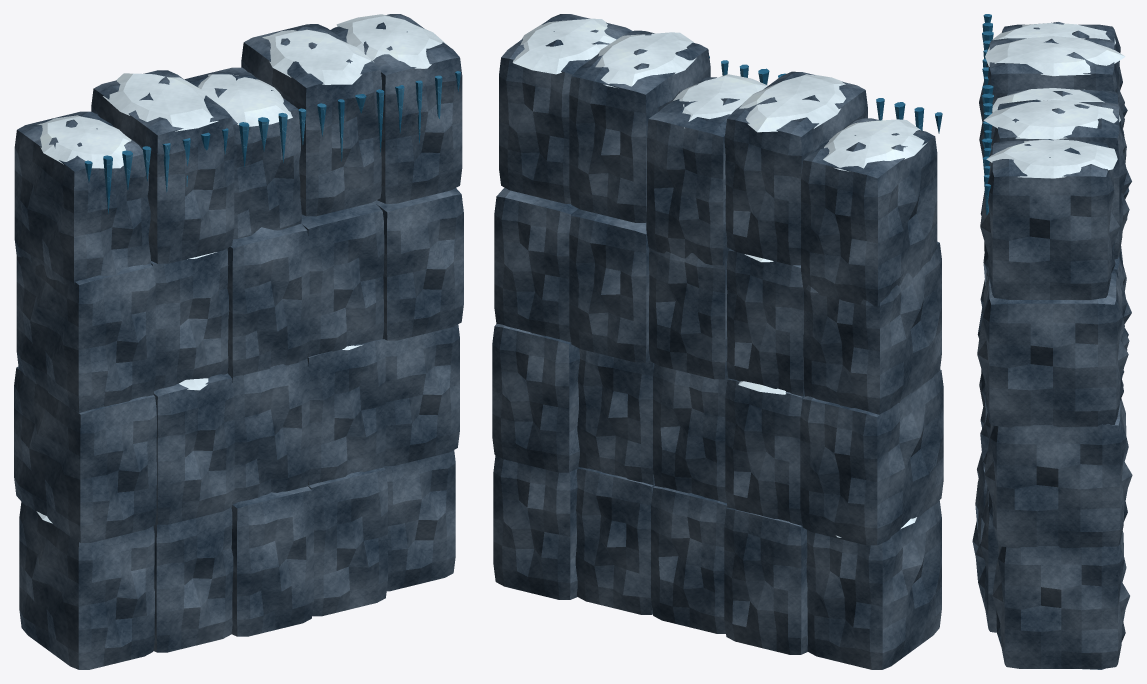
Rendered from SnowForest_Wall.fbx.
3 views of the same model, side by side, from view 1: azimuth 30°, elevation 25°; view 2: azimuth 150°, elevation 25°; view 3: azimuth 270°, elevation 25° (orthographic). The views are drawn at different scales.
Parts seen in each view (by area): view 1: WO_SnowForest_Wall_LOD0; view 2: WO_SnowForest_Wall_LOD0; view 3: WO_SnowForest_Wall_LOD0.
Boxes of the visible parts, x1,y1,x2,y2 form: WO_SnowForest_Wall_LOD0: (14, 14, 463, 669); WO_SnowForest_Wall_LOD0: (492, 14, 943, 669); WO_SnowForest_Wall_LOD0: (972, 14, 1132, 669).
Size of what is drawn, in the model's own units: 6 by 7.88 by 2.2.
